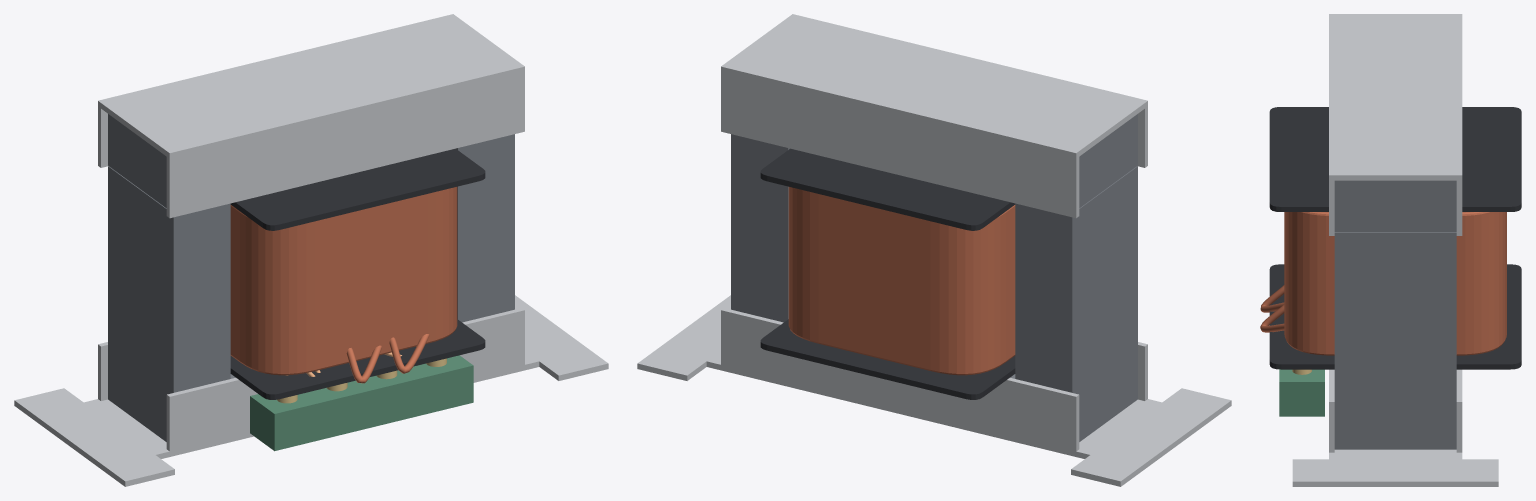
The model's file is transformer.glb.
3 renders of one model, left to right at view 1: azimuth 30°, elevation 25°; view 2: azimuth 150°, elevation 25°; view 3: azimuth 270°, elevation 25°, orthographic. The views are drawn at different scales.
Visible parts, largest first — view 1: Top Bracket, Magnetic Core, Secondary Winding, Bottom Bracket, Bobbin, Terminal Block, Secondary Leads; view 2: Top Bracket, Magnetic Core, Secondary Winding, Bottom Bracket, Bobbin; view 3: Magnetic Core, Top Bracket, Bobbin, Secondary Winding, Bottom Bracket, Terminal Block, Secondary Leads.
Part boxes in pixels (<box>): Top Bracket: <box>98,14,524,218</box>; Magnetic Core: <box>108,114,514,441</box>; Secondary Winding: <box>230,187,457,375</box>; Bottom Bracket: <box>14,295,608,486</box>; Bobbin: <box>230,148,485,399</box>; Terminal Block: <box>250,355,473,451</box>; Secondary Leads: <box>346,334,429,383</box>; Top Bracket: <box>721,14,1147,218</box>; Magnetic Core: <box>731,114,1137,441</box>; Secondary Winding: <box>788,187,1015,375</box>; Bottom Bracket: <box>637,295,1231,486</box>; Bobbin: <box>760,148,1015,399</box>; Magnetic Core: <box>1334,180,1456,449</box>; Top Bracket: <box>1329,14,1462,235</box>; Bobbin: <box>1269,107,1521,369</box>; Secondary Winding: <box>1284,212,1506,355</box>; Bottom Bracket: <box>1292,369,1498,486</box>; Terminal Block: <box>1279,369,1324,416</box>; Secondary Leads: <box>1260,285,1284,332</box>.
Bounding box in the file's own units: 0.136 × 0.0817 × 0.0685.
